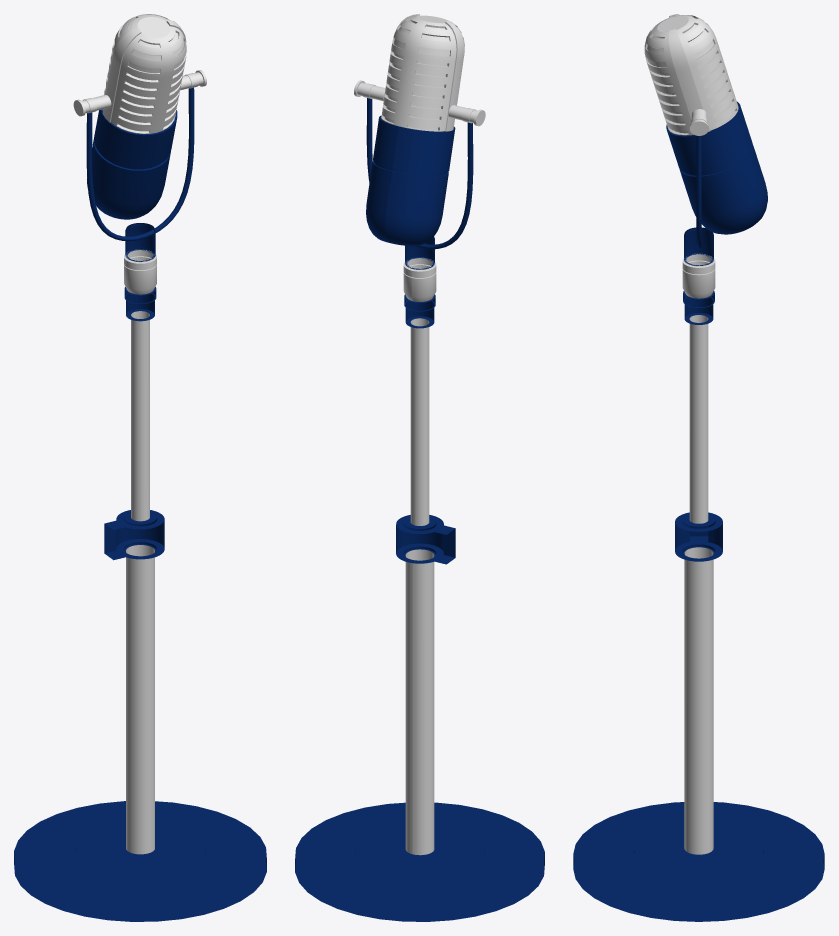
The model's file is Micro.fbx.
The picture shows the model from 3 angles, left to right: view 1: azimuth 30°, elevation 25°; view 2: azimuth 150°, elevation 25°; view 3: azimuth 270°, elevation 25°; orthographic projection.
Parts seen in each view (by area): view 1: plastique_meshId4_name_002; view 2: plastique_meshId4_name_002; view 3: plastique_meshId4_name_002.
Part boxes in pixels (bbox=[...]): plastique_meshId4_name_002: bbox=[14, 14, 266, 921]; plastique_meshId4_name_002: bbox=[295, 14, 544, 921]; plastique_meshId4_name_002: bbox=[573, 14, 824, 921].
Size of the model in its own units: 143 by 533 by 143.
